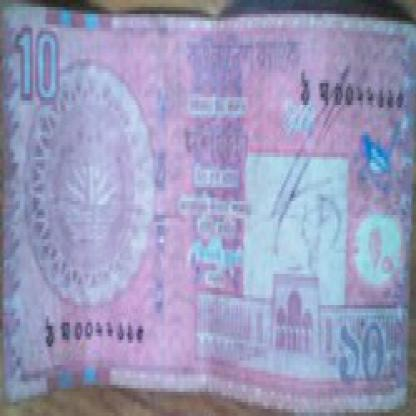Ten Taka: (335, 302, 394, 402), (7, 24, 70, 111)
